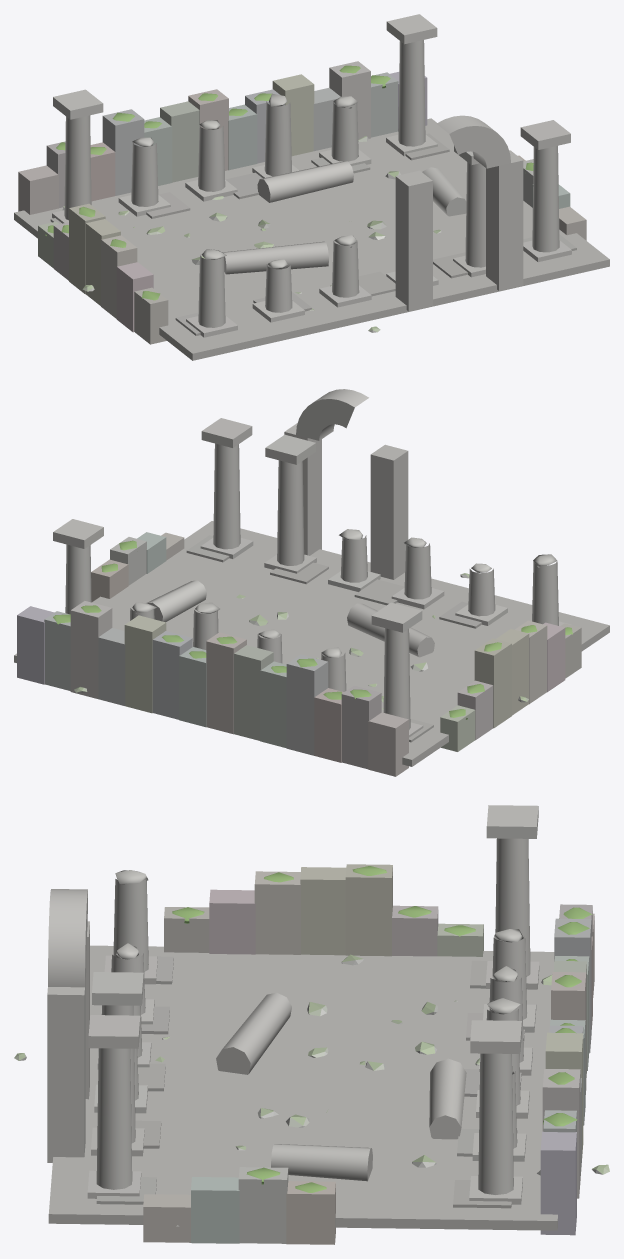
File: struct_9_13.glb
The picture shows the model from 3 angles, top to bottom: view 1: azimuth 30°, elevation 25°; view 2: azimuth 150°, elevation 25°; view 3: azimuth 270°, elevation 25°; orthographic projection. The views are drawn at different scales.
Parts seen in each view (by area): view 1: Landmarks; view 2: Landmarks; view 3: Landmarks.
Boxes of the visible parts, bbox=[...] form: Landmarks: bbox=[14, 14, 609, 360]; Landmarks: bbox=[14, 389, 609, 776]; Landmarks: bbox=[14, 805, 609, 1244].
Size of the model in its own units: 25.68 by 10.2 by 22.48.
